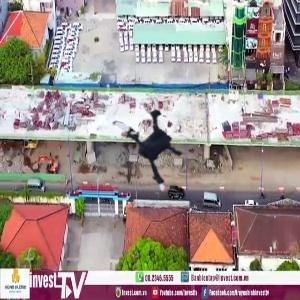drone: (95, 92, 199, 196)
